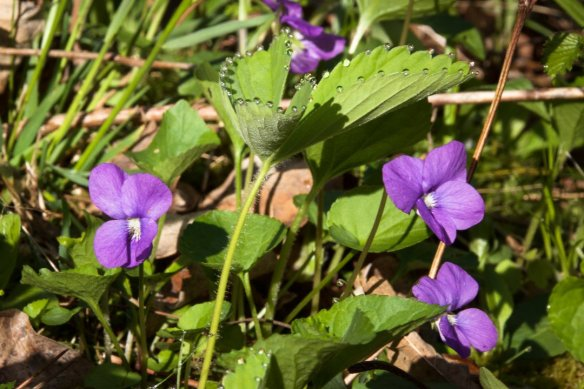violet: (363, 126, 494, 258), (74, 159, 172, 268), (407, 265, 503, 357)
